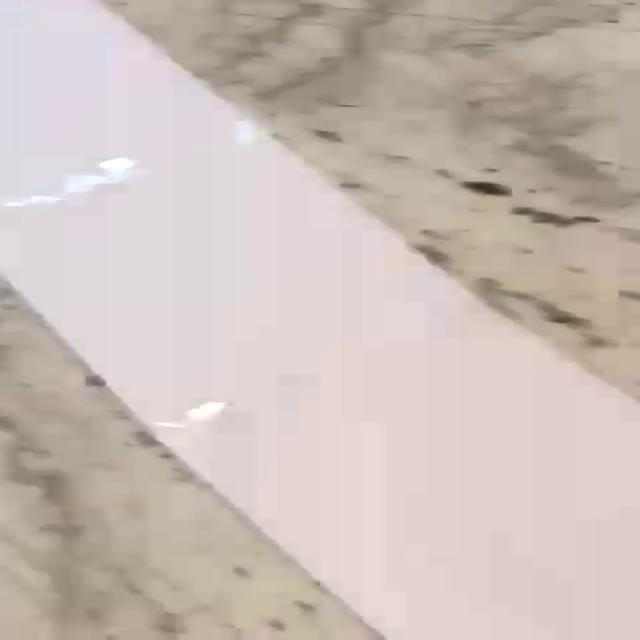road: (2, 0, 637, 640)
